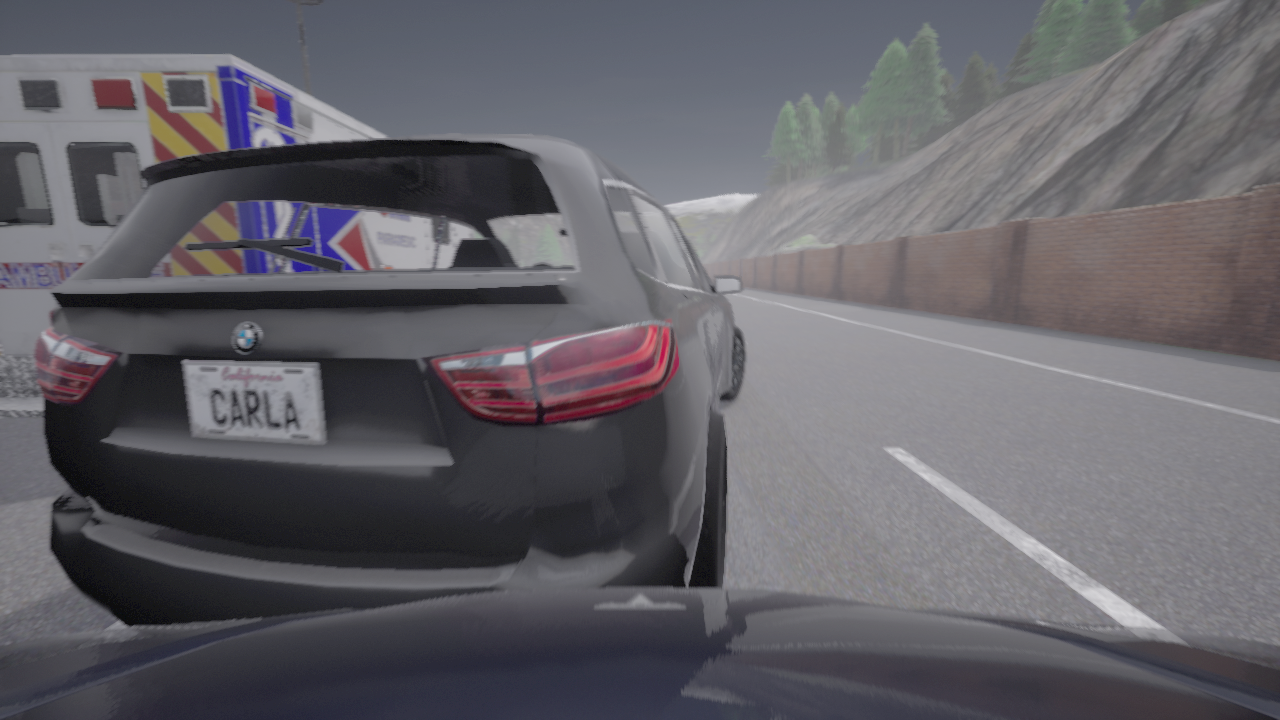cyclist: (34, 135, 745, 626), (0, 588, 1279, 719), (0, 55, 388, 417)
